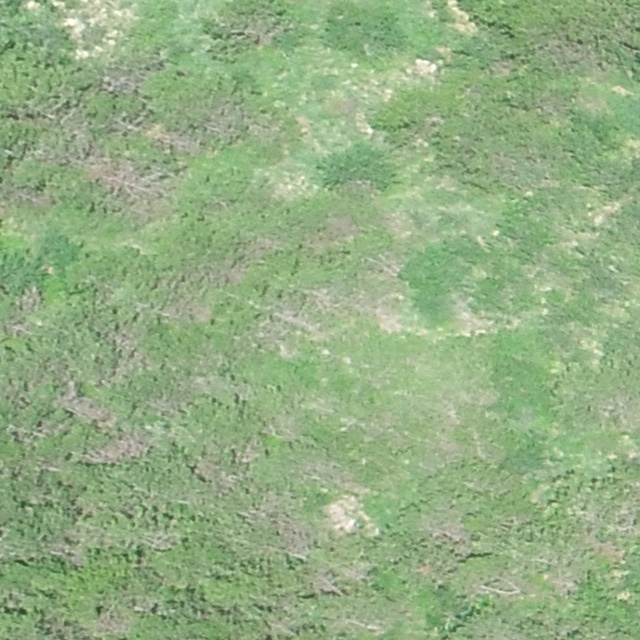unhealthy: (85, 155, 151, 197), (86, 432, 150, 463), (146, 123, 195, 154), (89, 609, 130, 638), (310, 569, 341, 595)
